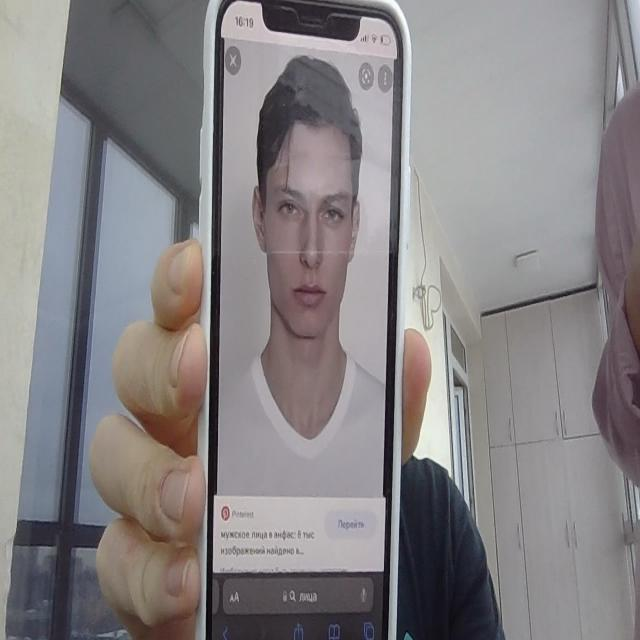device: (189, 0, 419, 640)
